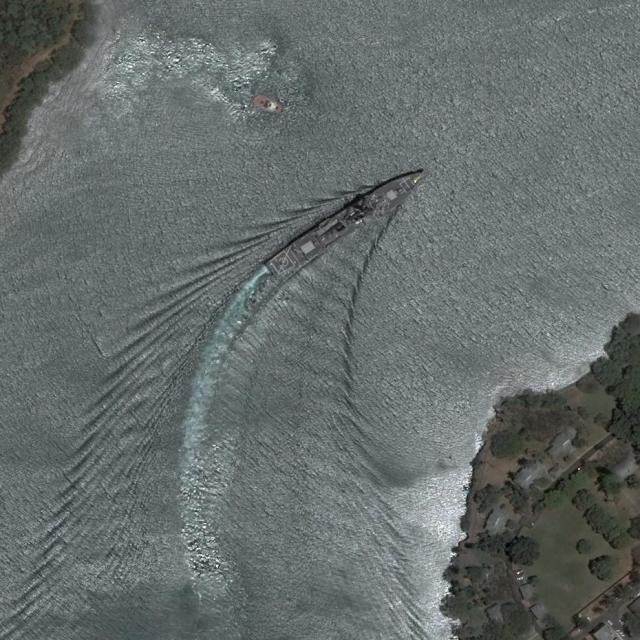Destroyer: (264, 162, 431, 281)
Other Ship: (251, 92, 286, 118)
